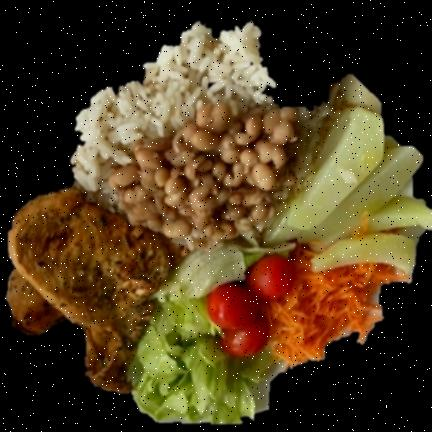beans: (109, 104, 298, 250)
carrot: (263, 245, 408, 367)
chicken: (7, 189, 171, 393)
green_vegetables: (211, 108, 423, 274)
rice: (72, 24, 275, 213)
salad: (132, 244, 277, 424)
tomato: (207, 257, 294, 357)
